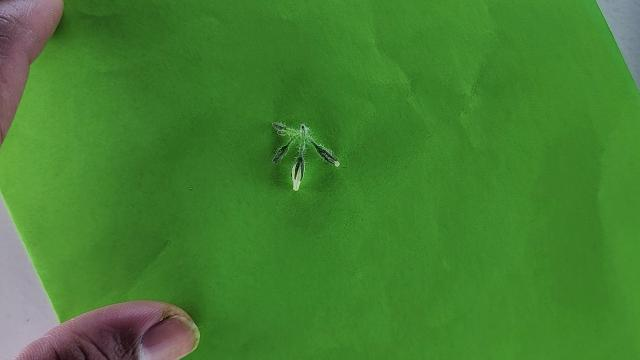Flower Bud: (312, 142, 339, 167), (291, 152, 304, 188), (272, 142, 292, 164), (272, 122, 288, 133), (325, 154, 338, 167)
